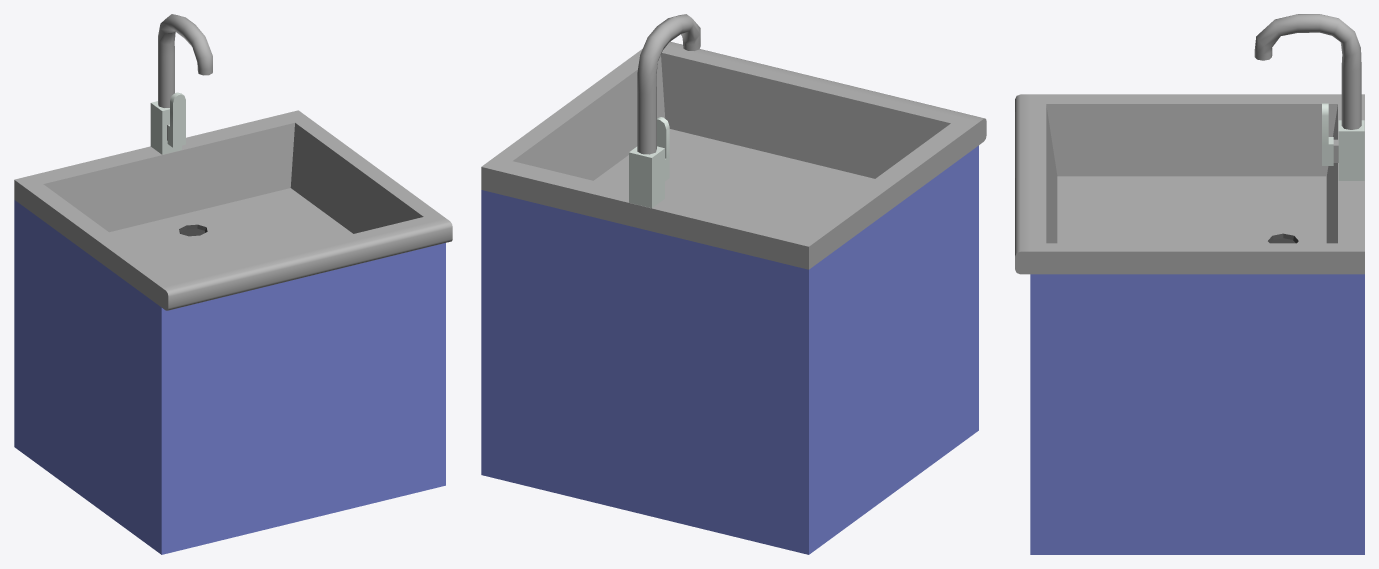
The model's file is Sink.fbx.
3 renders of one model, left to right at view 1: azimuth 30°, elevation 25°; view 2: azimuth 150°, elevation 25°; view 3: azimuth 270°, elevation 25°, orthographic. The views are drawn at different scales.
Visible parts, largest first — view 1: Cube.004, Cube.005, Cube.006; view 2: Cube.004, Cube.005, Cube.006; view 3: Cube.004, Cube.005, Cube.006.
Part boxes in pixels (x1,y1,x2,y2): Cube.004: [14, 110, 452, 554]; Cube.005: [158, 14, 212, 107]; Cube.006: [150, 92, 185, 154]; Cube.004: [481, 41, 986, 554]; Cube.005: [637, 14, 700, 154]; Cube.006: [629, 117, 669, 208]; Cube.004: [1015, 94, 1364, 554]; Cube.005: [1254, 14, 1361, 129]; Cube.006: [1322, 103, 1364, 180].
Size of the model in its own units: 111 by 153 by 105.
